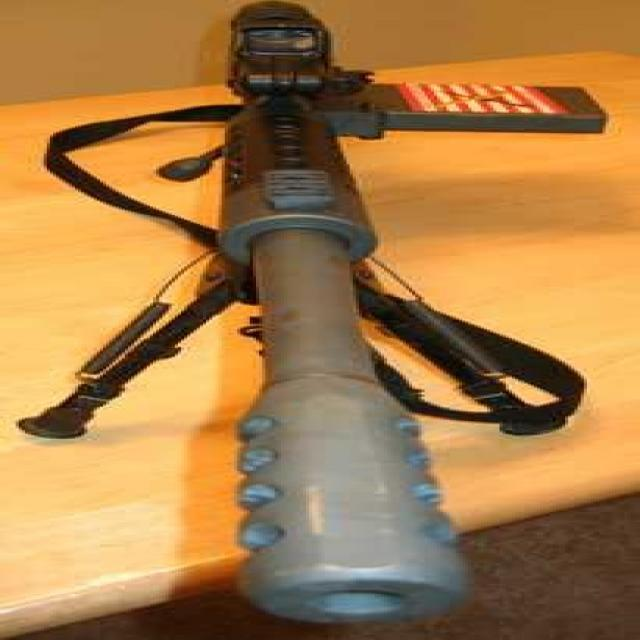weapon: (143, 0, 612, 640)
